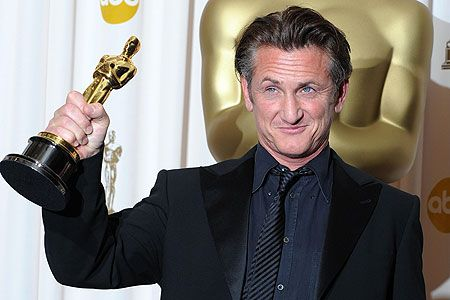hand: (52, 93, 100, 179)
